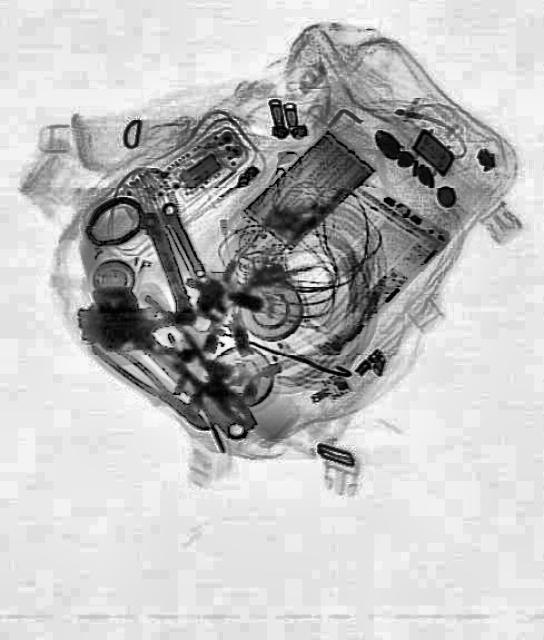Pliers: (88, 328, 212, 438)
Wrench: (73, 267, 263, 458)
